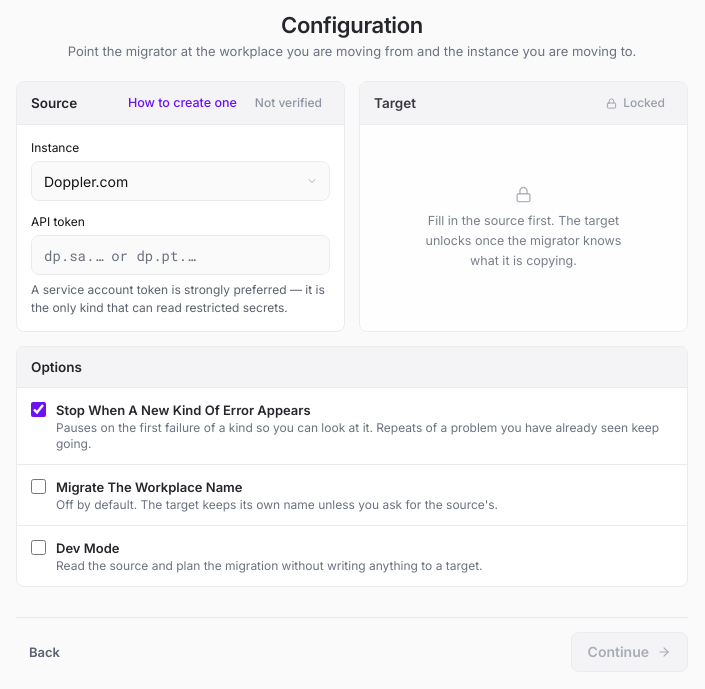
ConfigurationPage › needs only a source in dev mode, because nothing is written
The width and height of the screenshot is (705, 689).
Click the checkbox labelled "Dev Mode" at [38, 548], box [31, 540, 46, 555]
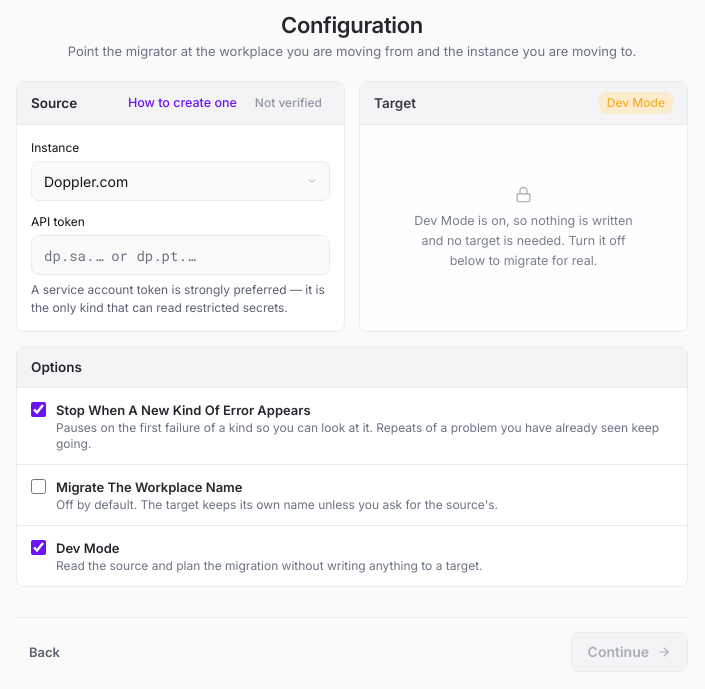
Type "dp.sa.0123456789abcdef7f2c" into the password field labelled "API token" at [180, 255], box [31, 235, 330, 275]
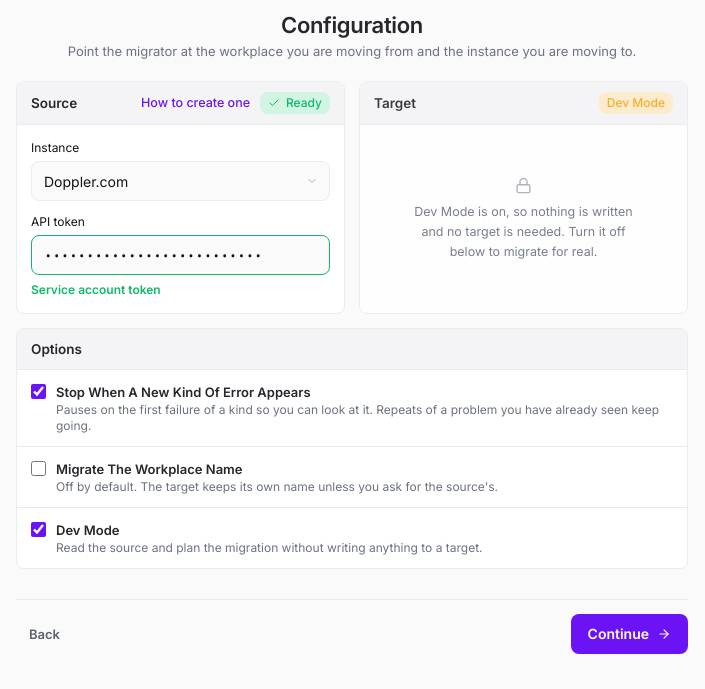
Result: the text "Dev Mode is on, so nothing is written" is shown at [414, 204, 633, 258]
Result: the button "Continue" is enabled at [571, 614, 688, 654]
